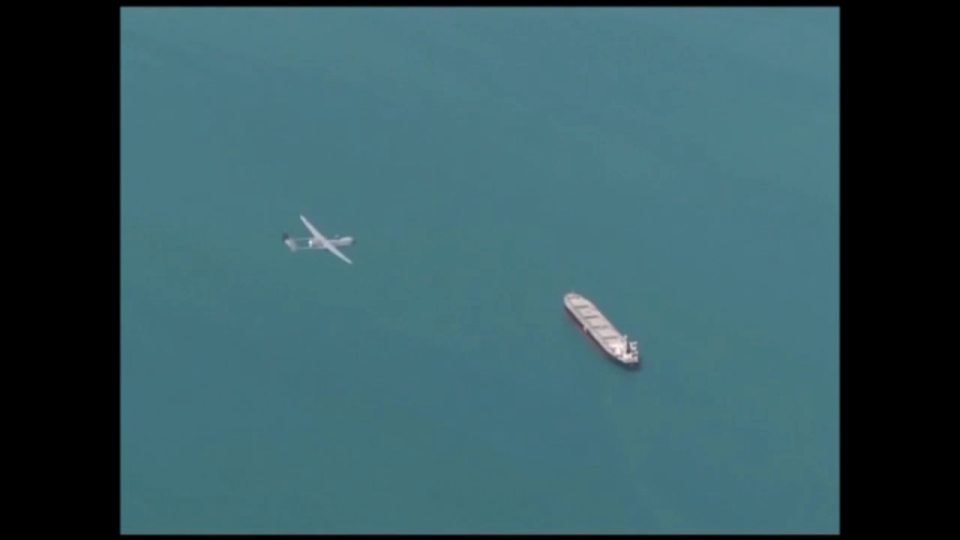military drone: (282, 214, 354, 264)
